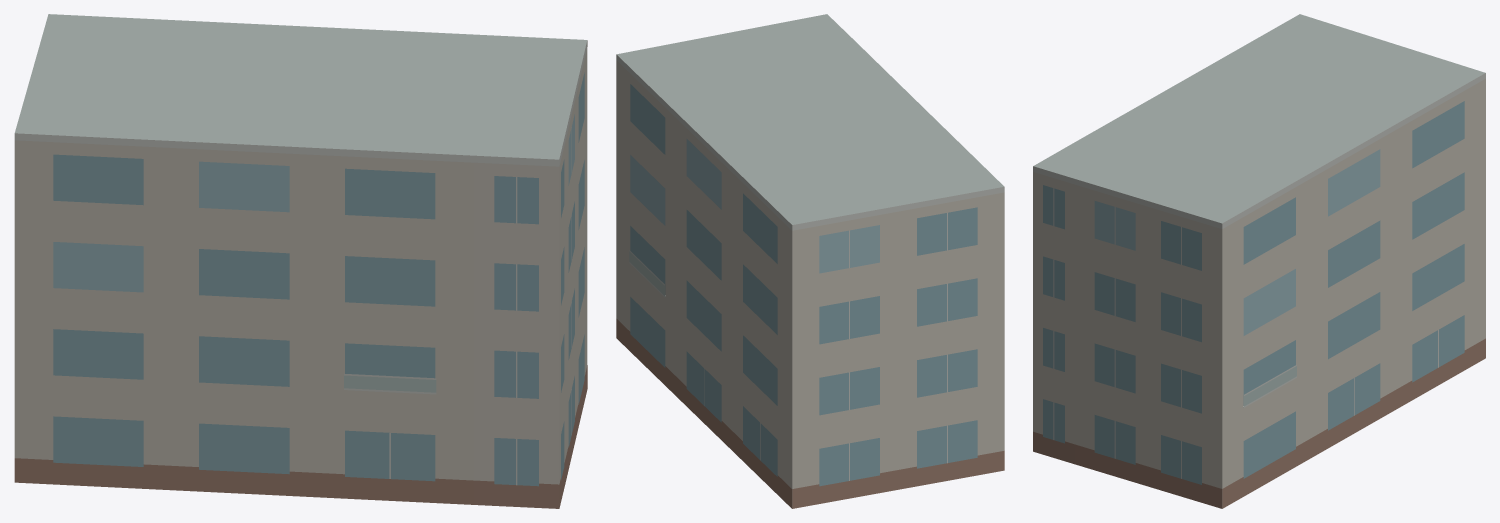
Rendered from survey-upis-32945726.glb.
3 views of the same model, side by side, from view 1: azimuth 30°, elevation 25°; view 2: azimuth 150°, elevation 25°; view 3: azimuth 270°, elevation 25° (orthographic). The views are drawn at different scales.
Parts seen in each view (by area): view 1: survey-upis-32945726.tmp; view 2: survey-upis-32945726.tmp; view 3: survey-upis-32945726.tmp.
Boxes of the visible parts, x1=… form: survey-upis-32945726.tmp: x1=14, y1=14, x2=587, y2=508; survey-upis-32945726.tmp: x1=616, y1=14, x2=1004, y2=508; survey-upis-32945726.tmp: x1=1033, y1=14, x2=1485, y2=508.
Size of the model in its own units: 19.21 by 12.2 by 17.55.
